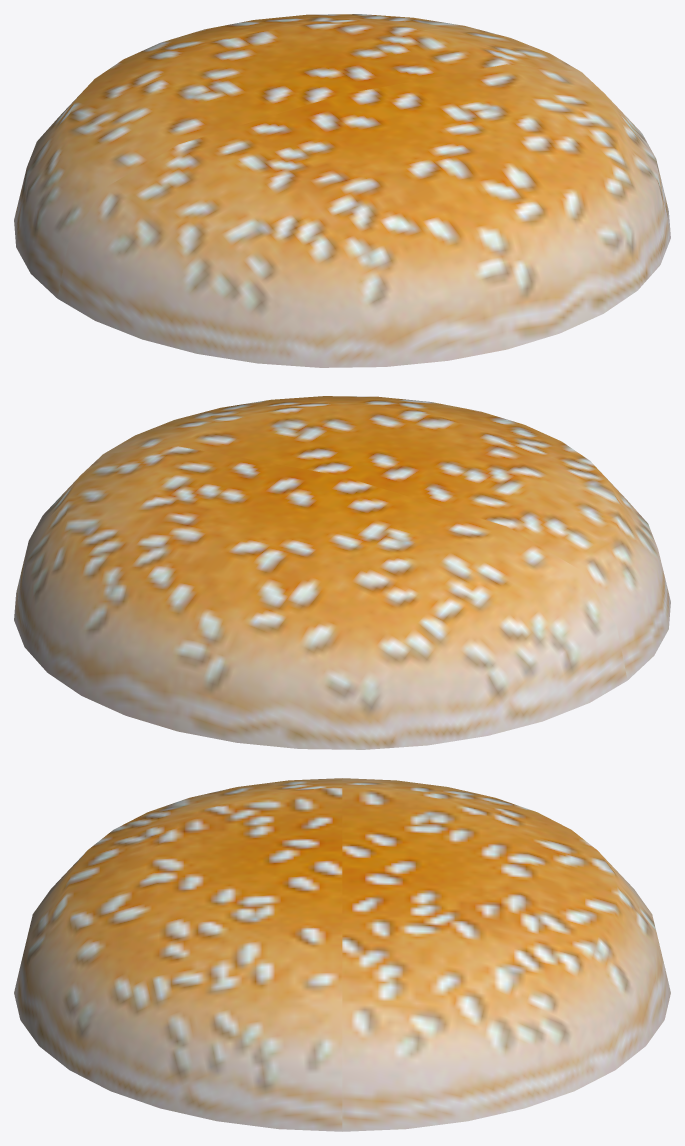
Rendered from Mac.obj.
The picture shows the model from 3 angles, top to bottom: view 1: azimuth 30°, elevation 25°; view 2: azimuth 150°, elevation 25°; view 3: azimuth 270°, elevation 25°; orthographic projection.
Parts seen in each view (by area): view 1: polygon0; view 2: polygon0; view 3: polygon0.
Part boxes in pixels (bbox=[...]): polygon0: bbox=[14, 14, 670, 367]; polygon0: bbox=[14, 396, 670, 749]; polygon0: bbox=[14, 778, 670, 1131].
Bounding box in the file's own units: 3.34 × 0.7554 × 3.34.
1 material, 1 textured.
